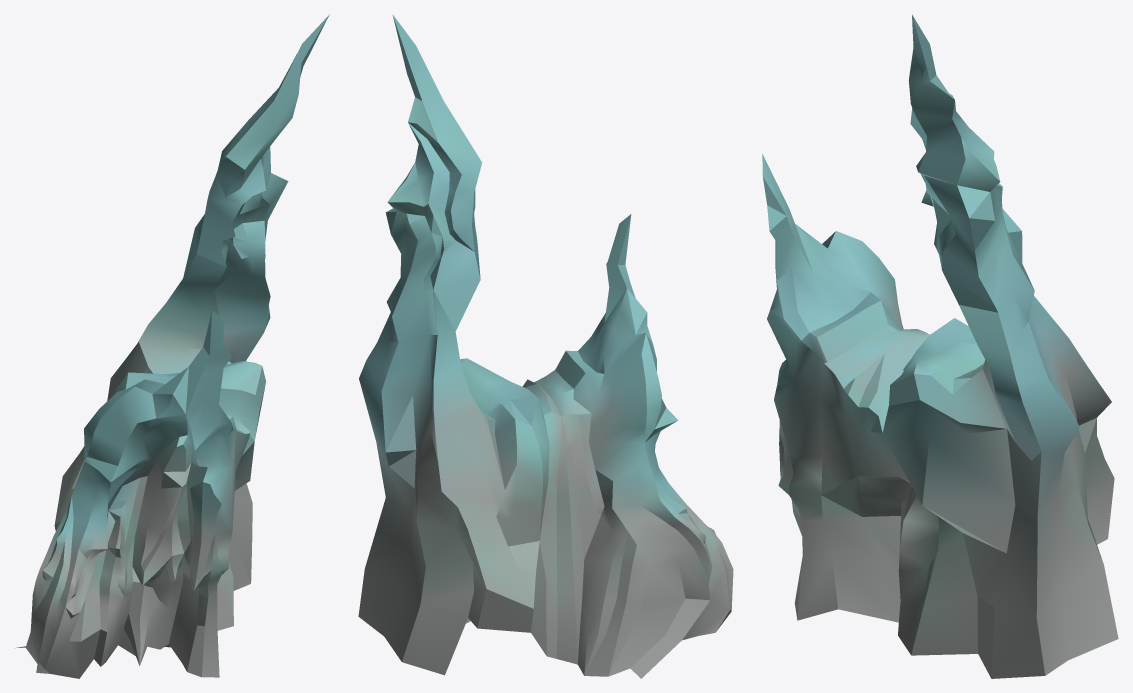
3 views of the same model, side by side, from view 1: azimuth 30°, elevation 25°; view 2: azimuth 150°, elevation 25°; view 3: azimuth 270°, elevation 25° (orthographic). The views are drawn at different scales.
Visible parts, largest first — view 1: G:\FFXIV-MapTools\exports\l1f1\bg\ffxiv\lak_l1\fld\l1f1\bgpa; view 2: G:\FFXIV-MapTools\exports\l1f1\bg\ffxiv\lak_l1\fld\l1f1\bgpa; view 3: G:\FFXIV-MapTools\exports\l1f1\bg\ffxiv\lak_l1\fld\l1f1\bgpa.
Boxes of the visible parts, bbox=[...] form: G:\FFXIV-MapTools\exports\l1f1\bg\ffxiv\lak_l1\fld\l1f1\bgpa: bbox=[14, 14, 329, 678]; G:\FFXIV-MapTools\exports\l1f1\bg\ffxiv\lak_l1\fld\l1f1\bgpa: bbox=[358, 14, 733, 678]; G:\FFXIV-MapTools\exports\l1f1\bg\ffxiv\lak_l1\fld\l1f1\bgpa: bbox=[762, 14, 1118, 678].
Bounding box in the file's own units: 20.75 × 37.34 × 16.98.
